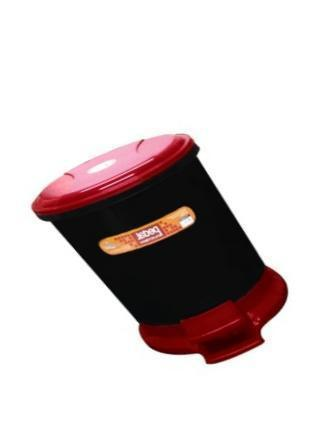Bote de Basura: (37, 136, 290, 371)
